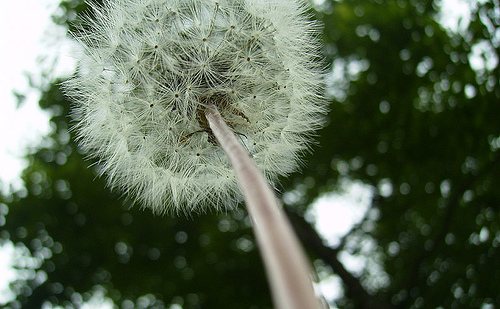dandelion: (47, 2, 349, 219)
